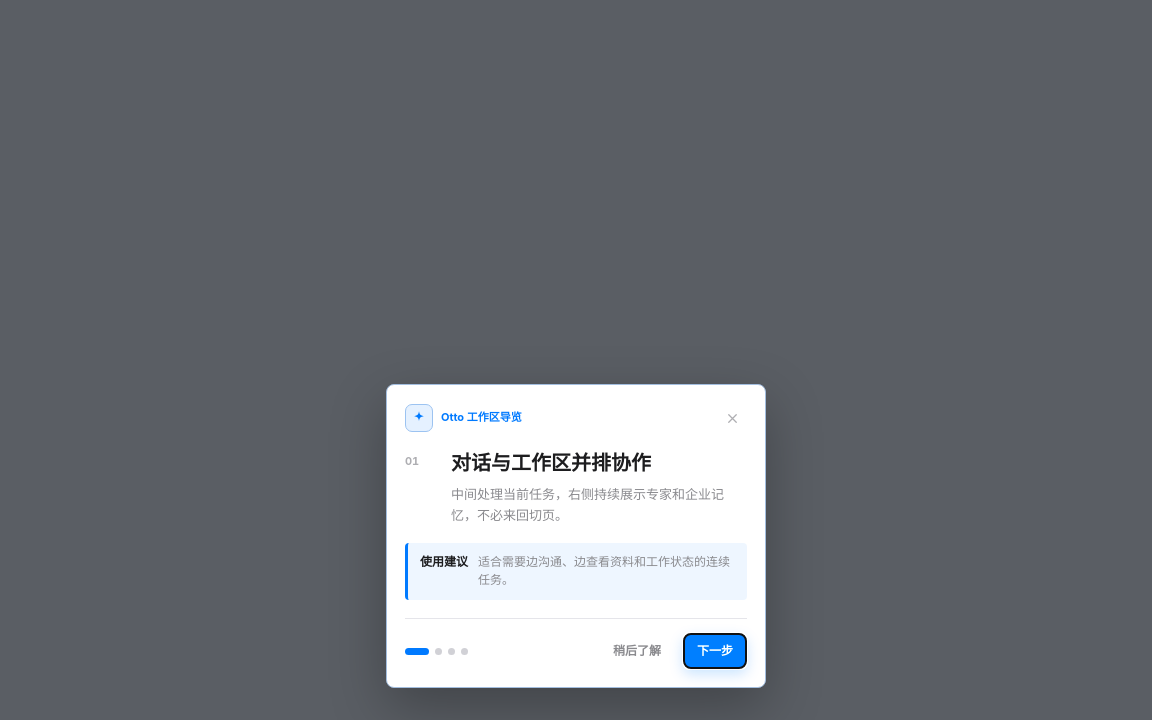
Test case: FirstRunGuide › supports direct step navigation from the progress controls
The width and height of the screenshot is (1152, 720).
Click the button named "前往第 3 步": (452, 651) [448, 648, 455, 655]
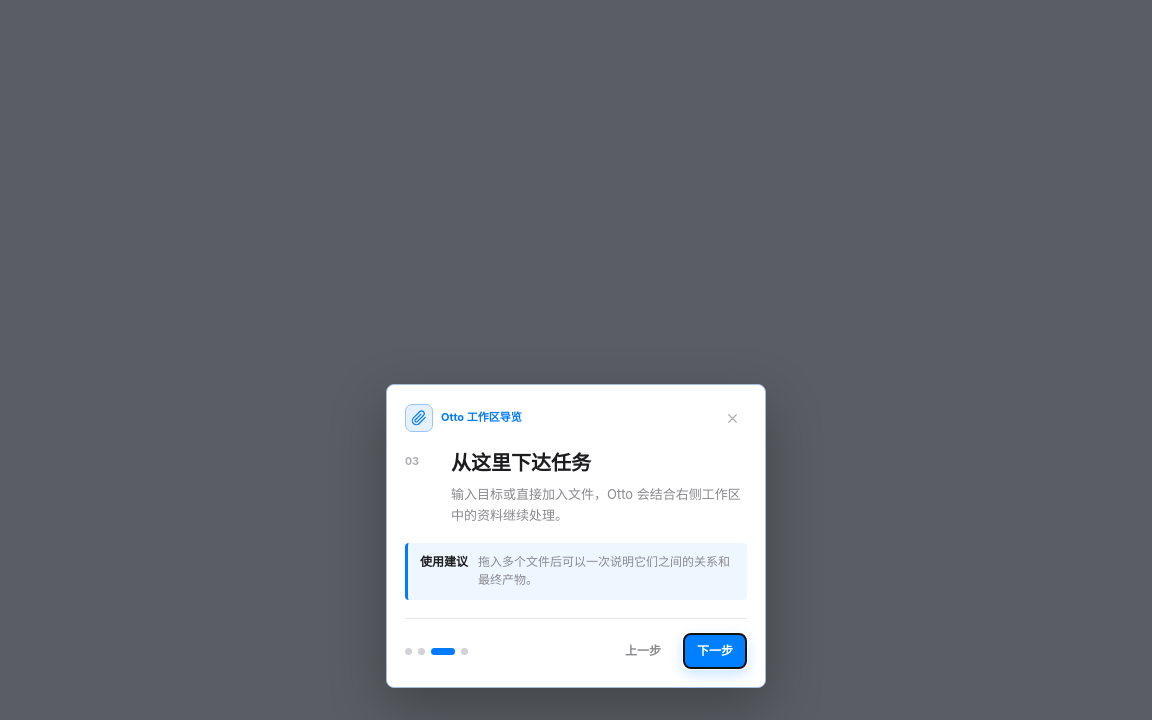
Result: the heading "从这里下达任务" is shown at [451, 451, 591, 475]
